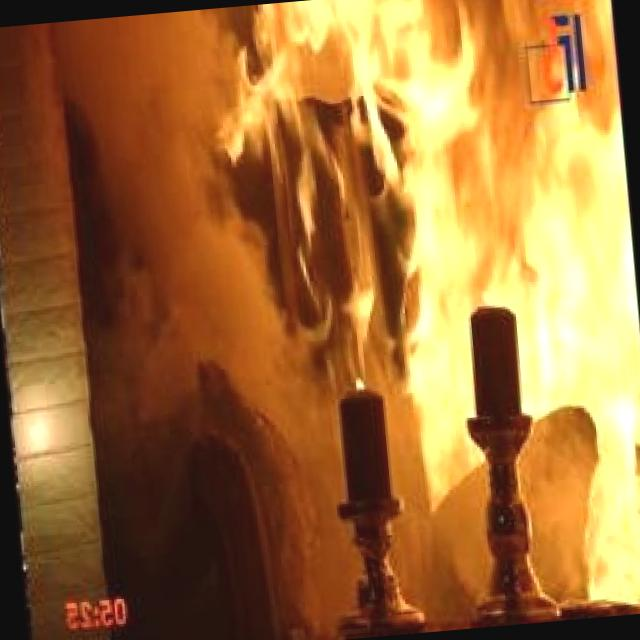fire: (269, 0, 631, 297)
